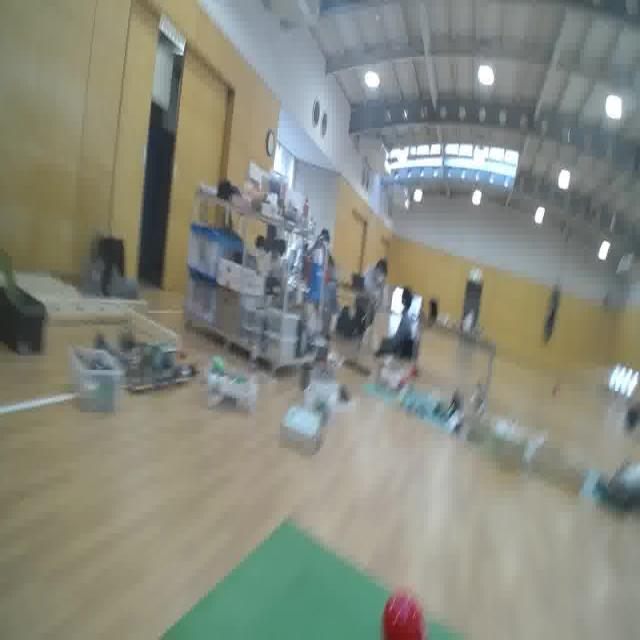red_ball: (378, 580, 432, 640)
